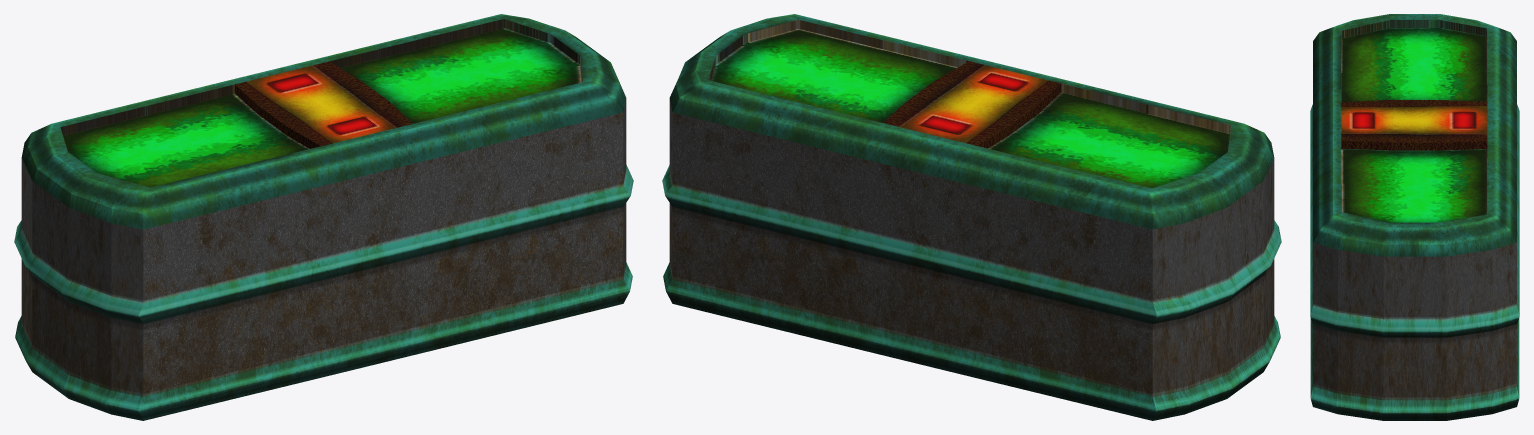
The model's file is WeaponsCache.FBX.
3 renders of one model, left to right at view 1: azimuth 30°, elevation 25°; view 2: azimuth 150°, elevation 25°; view 3: azimuth 270°, elevation 25°, orthographic. The views are drawn at different scales.
Visible parts, largest first — view 1: Crate_Weapons; view 2: Crate_Weapons; view 3: Crate_Weapons.
Part boxes in pixels (x1,y1,x2,y2): Crate_Weapons: [14, 14, 633, 420]; Crate_Weapons: [662, 14, 1281, 420]; Crate_Weapons: [1310, 14, 1519, 420].
Bounding box in the file's own units: 125 × 45.72 × 46.85.
Materials: 1 (1 with a texture image).
